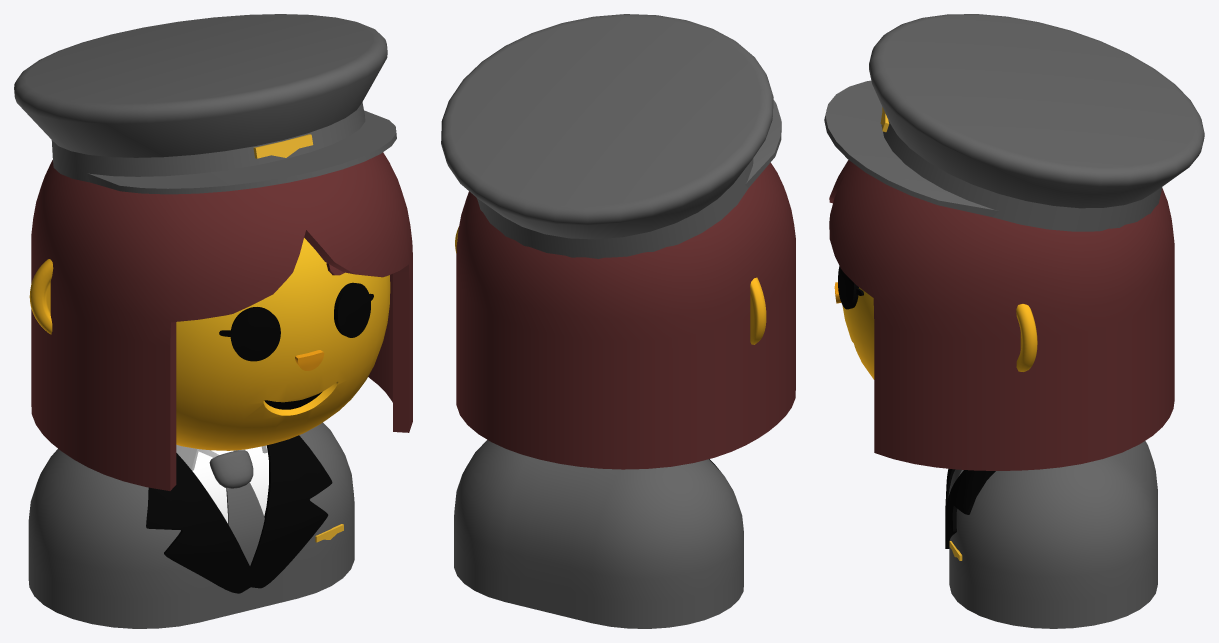
File: woman_pilot.glb
3 views of the same model, side by side, from view 1: azimuth 30°, elevation 25°; view 2: azimuth 150°, elevation 25°; view 3: azimuth 270°, elevation 25° (orthographic). The views are drawn at different scales.
Parts seen in each view (by area): view 1: Roundcube.134, Circle.744, Sphere.093, Roundcube.133, Circle.742, Circle.737, Circle.743, Cube.1655, Cylinder.111, Cube.1657; view 2: Roundcube.134, Circle.744, Sphere.093, Cylinder.111; view 3: Roundcube.134, Circle.744, Sphere.093, Circle.742, Roundcube.133, Cylinder.111, Circle.737.
Boxes of the visible parts, x1,y1,x2,y2 form: Roundcube.134: (31,152,412,490); Circle.744: (14,14,396,194); Sphere.093: (28,422,354,628); Roundcube.133: (176,238,390,450); Circle.742: (146,435,332,593); Circle.737: (230,282,370,361); Circle.743: (226,482,264,565); Cube.1655: (209,450,253,488); Cylinder.111: (29,259,53,334); Cube.1657: (253,134,313,158); Roundcube.134: (456,162,795,469); Circle.744: (441,14,781,258); Sphere.093: (454,440,743,628); Cylinder.111: (455,227,766,344); Roundcube.134: (829,160,1174,470); Circle.744: (824,14,1204,231); Sphere.093: (949,441,1157,628); Circle.742: (945,468,995,548); Roundcube.133: (842,287,874,379); Cylinder.111: (1016,304,1037,371); Circle.737: (838,266,858,309).
Bounding box in the file's own units: 1.63 × 2.48 × 1.69.
1 material, 1 textured.
